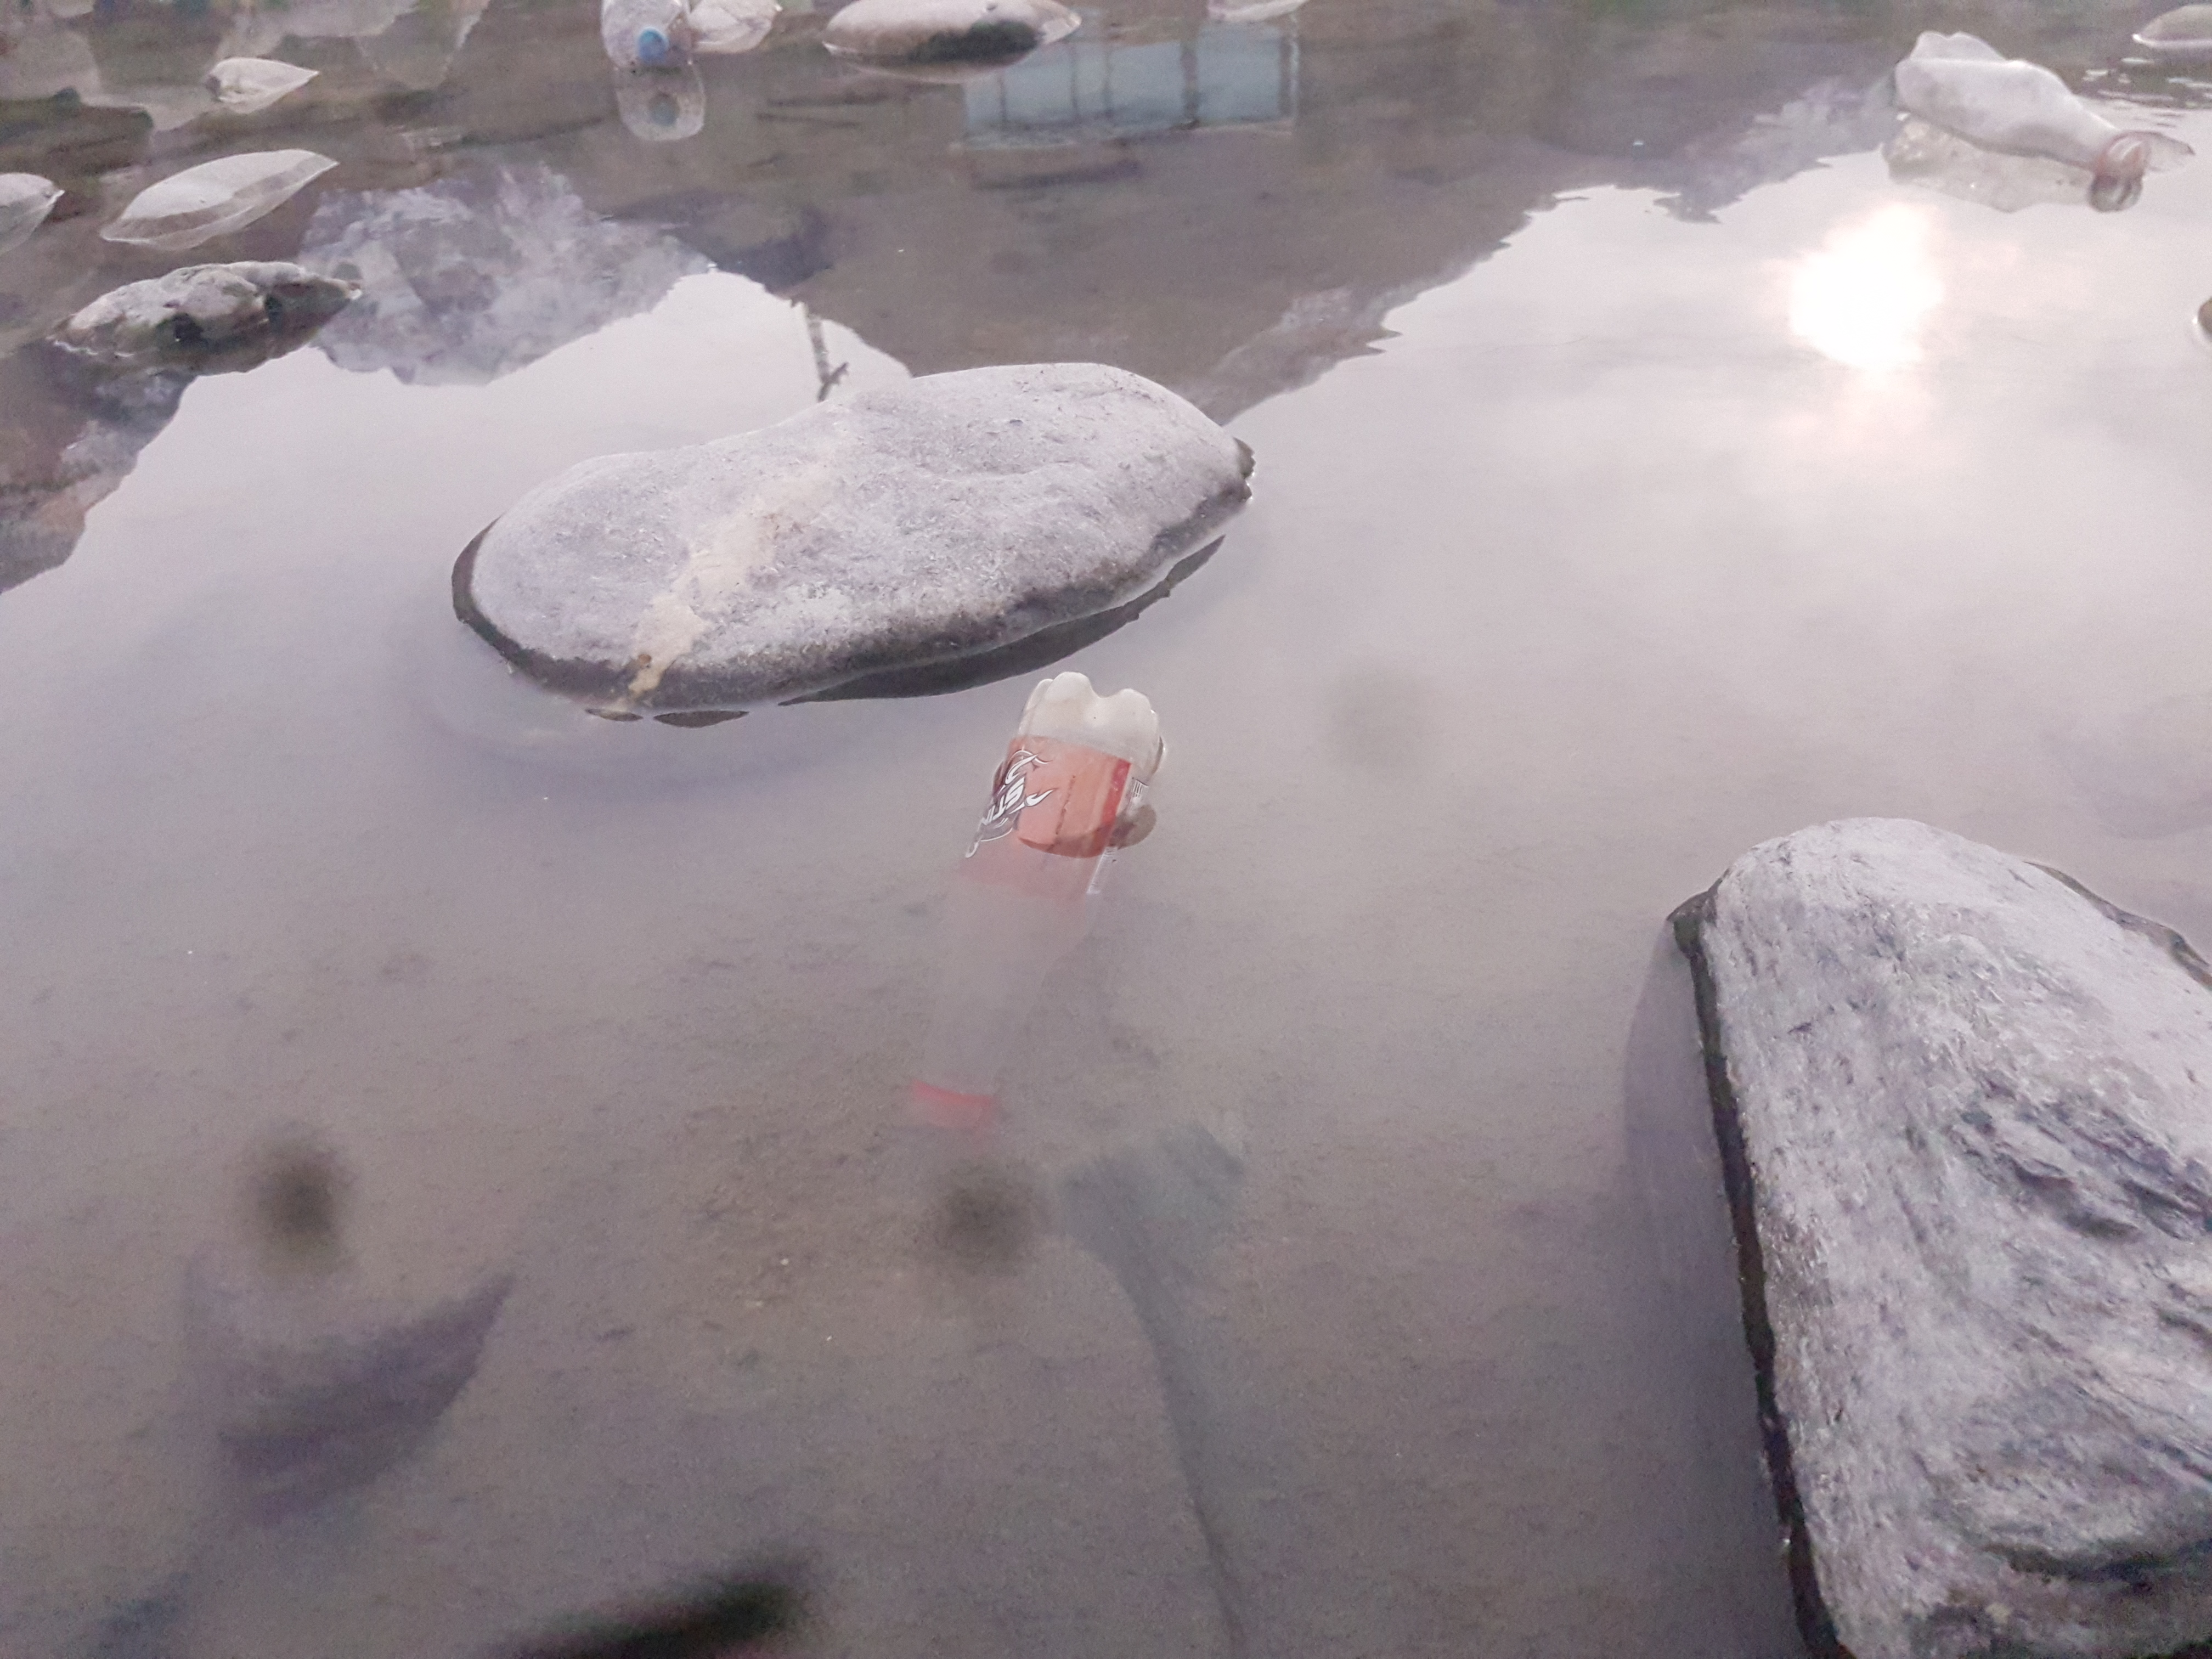Plastic Bottle: (1895, 28, 2149, 179), (984, 671, 1162, 856), (596, 0, 702, 70)
